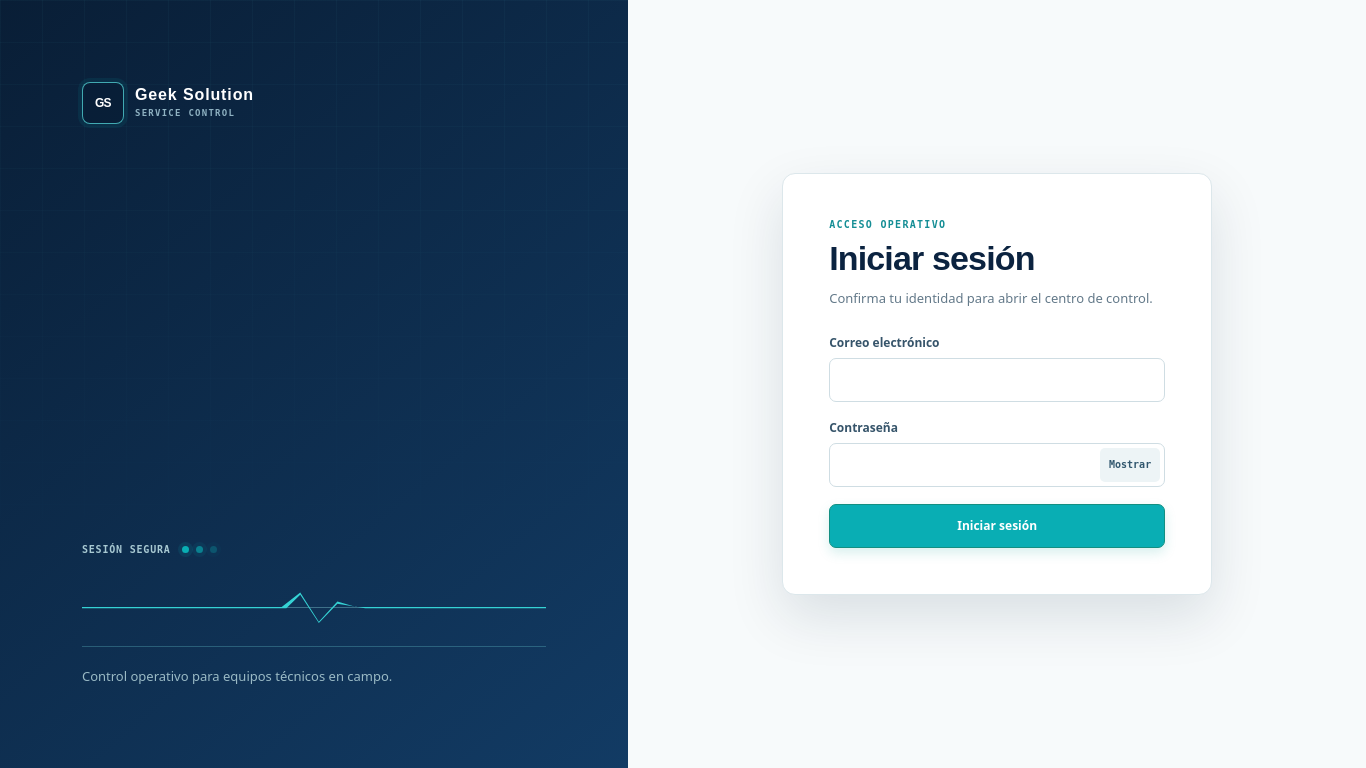
Test: páginas de autenticación › traduce errores de credenciales sin exponer el detalle del backend
In the field labelled "Correo electrónico": {"x": 997, "y": 380} [829,358,1165,402], type "admin@geek.test"
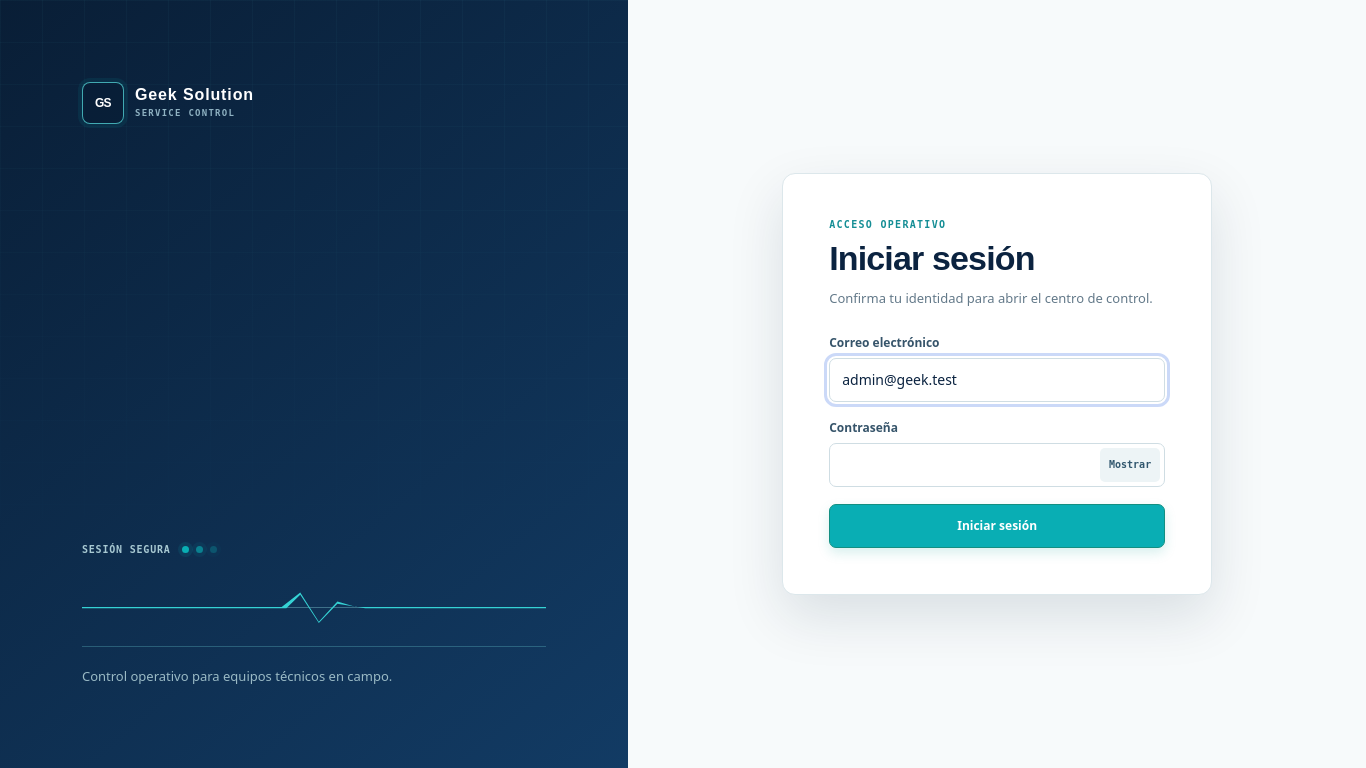
In the password field labelled "Contraseña": {"x": 997, "y": 465} [829,443,1165,487], type "Temporal123!"
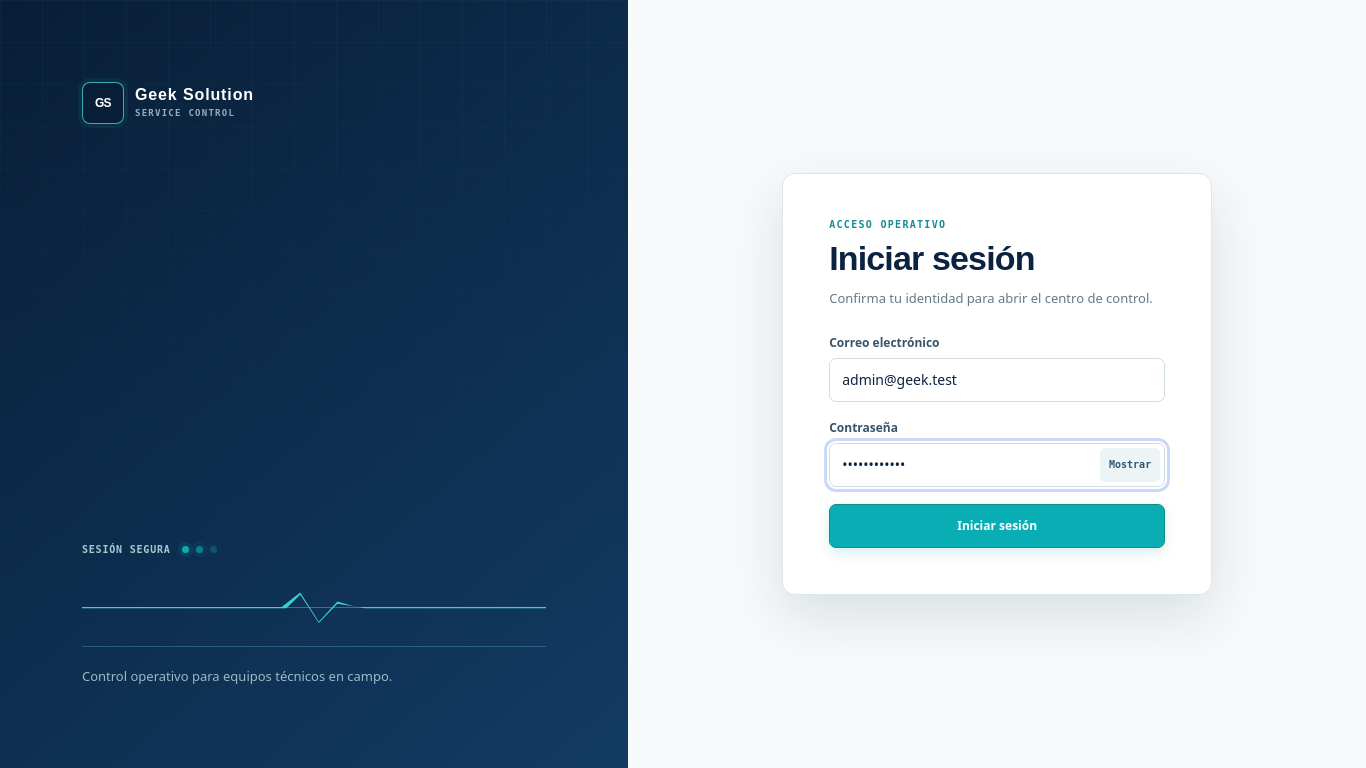
Click the button "Iniciar sesión": {"x": 997, "y": 526} [829,504,1165,548]
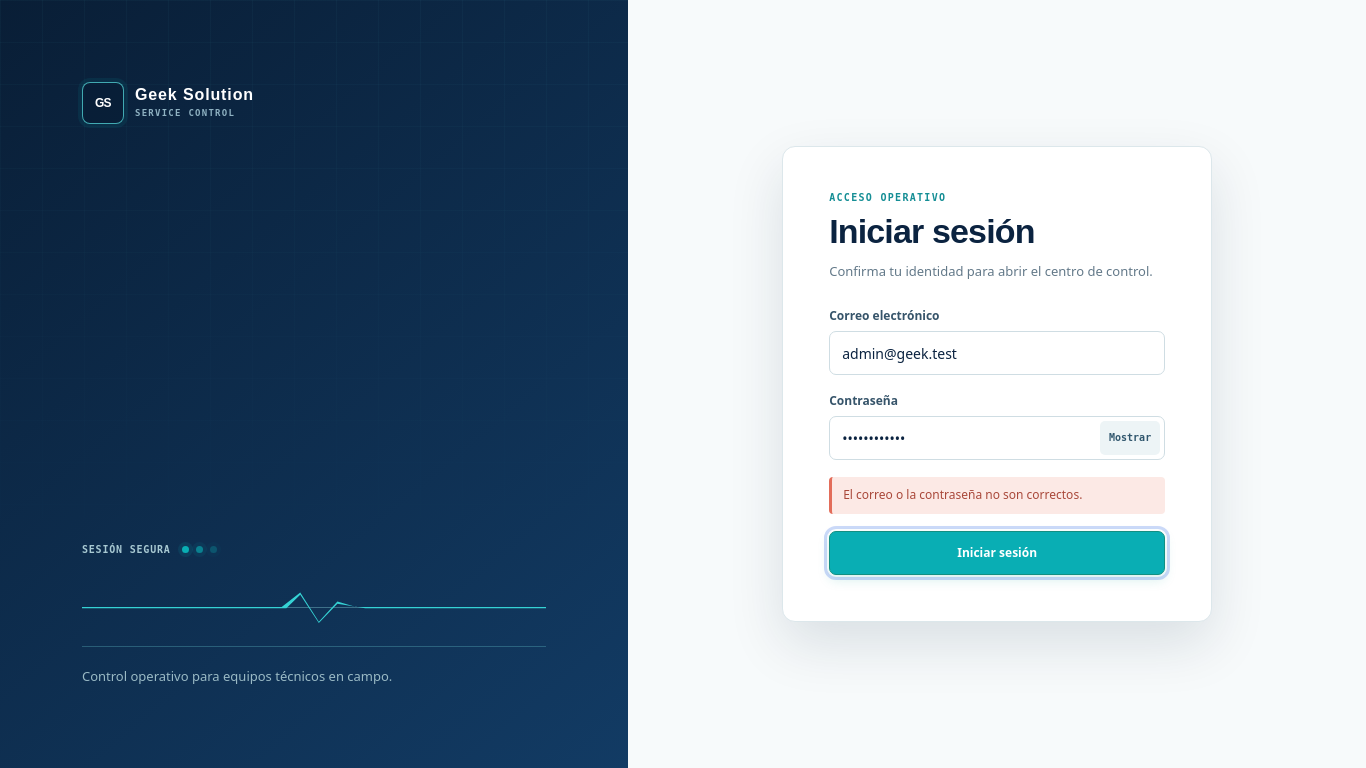
Expected: the message reads "El correo o la contraseña no son correctos.", [843,486,1082,503]
